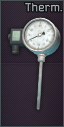Analog thermometer: (0, 0, 64, 127)
